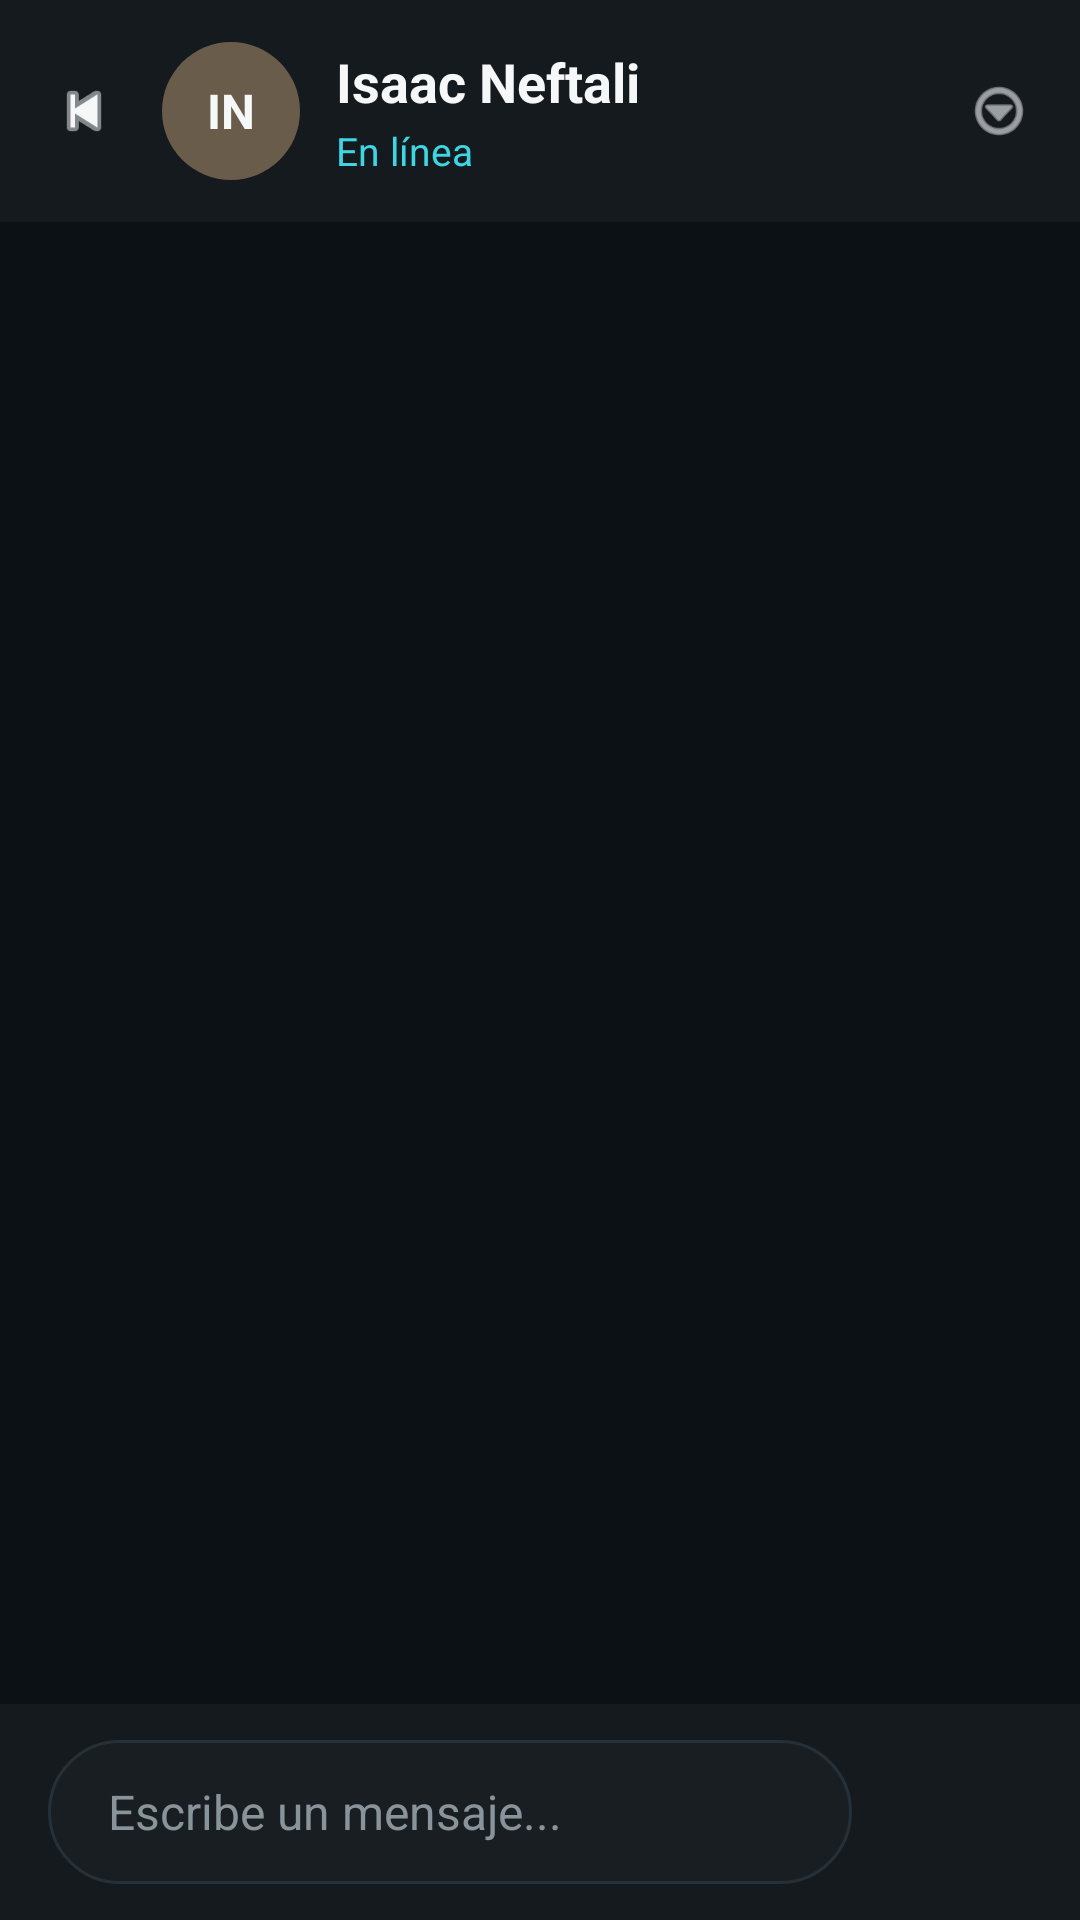

Screen size 1080 × 1920. Icon name, then its center in pixels as (x=x, y=y):
Opciones: (x=999, y=111)
Regresar: (x=84, y=111)
